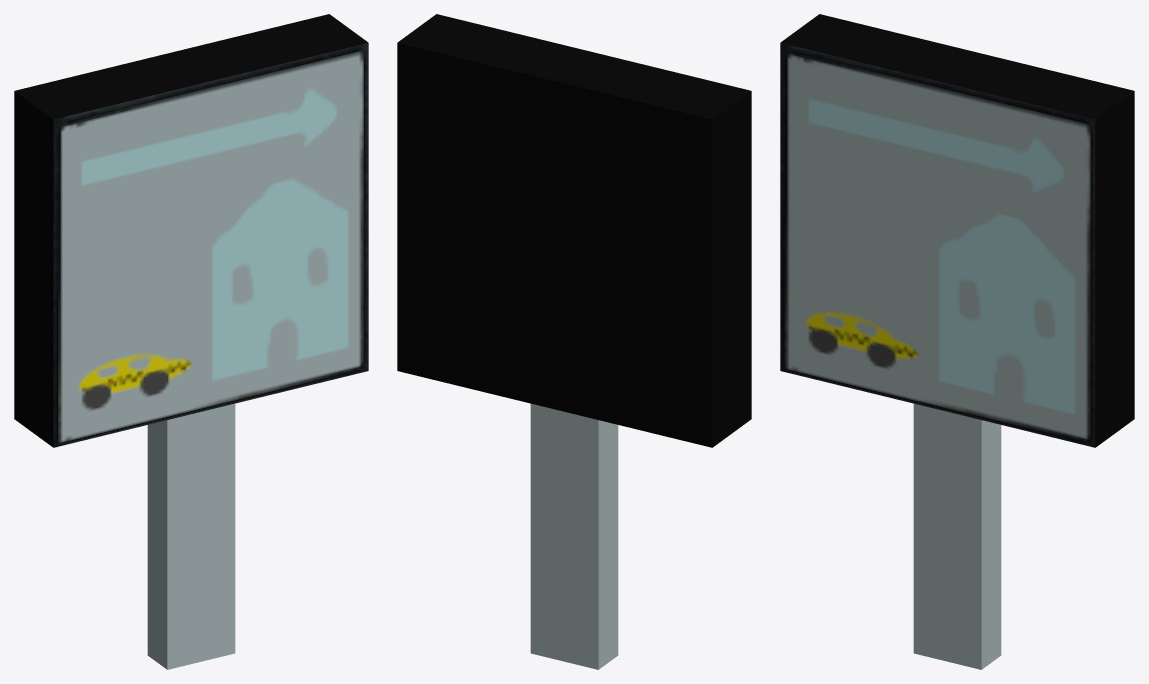
The model's file is SM_Hub_Sign_01.fbx.
The picture shows the model from 3 angles, left to right: view 1: azimuth 30°, elevation 25°; view 2: azimuth 150°, elevation 25°; view 3: azimuth 330°, elevation 25°; orthographic projection.
Visible parts, largest first — view 1: pasted__pCube2; view 2: pasted__pCube2; view 3: pasted__pCube2.
Boxes of the visible parts, x1,y1,x2,y2 form: pasted__pCube2: [14, 14, 368, 669]; pasted__pCube2: [397, 14, 751, 669]; pasted__pCube2: [780, 14, 1134, 669].
Size of the model in its own units: 4.64 by 8.26 by 1.
